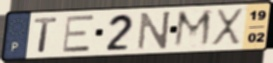2: (103, 11, 136, 54)
E: (61, 13, 96, 54)
M: (171, 8, 215, 50)
N: (136, 10, 173, 52)
T: (33, 16, 59, 54)
X: (209, 7, 246, 47)
